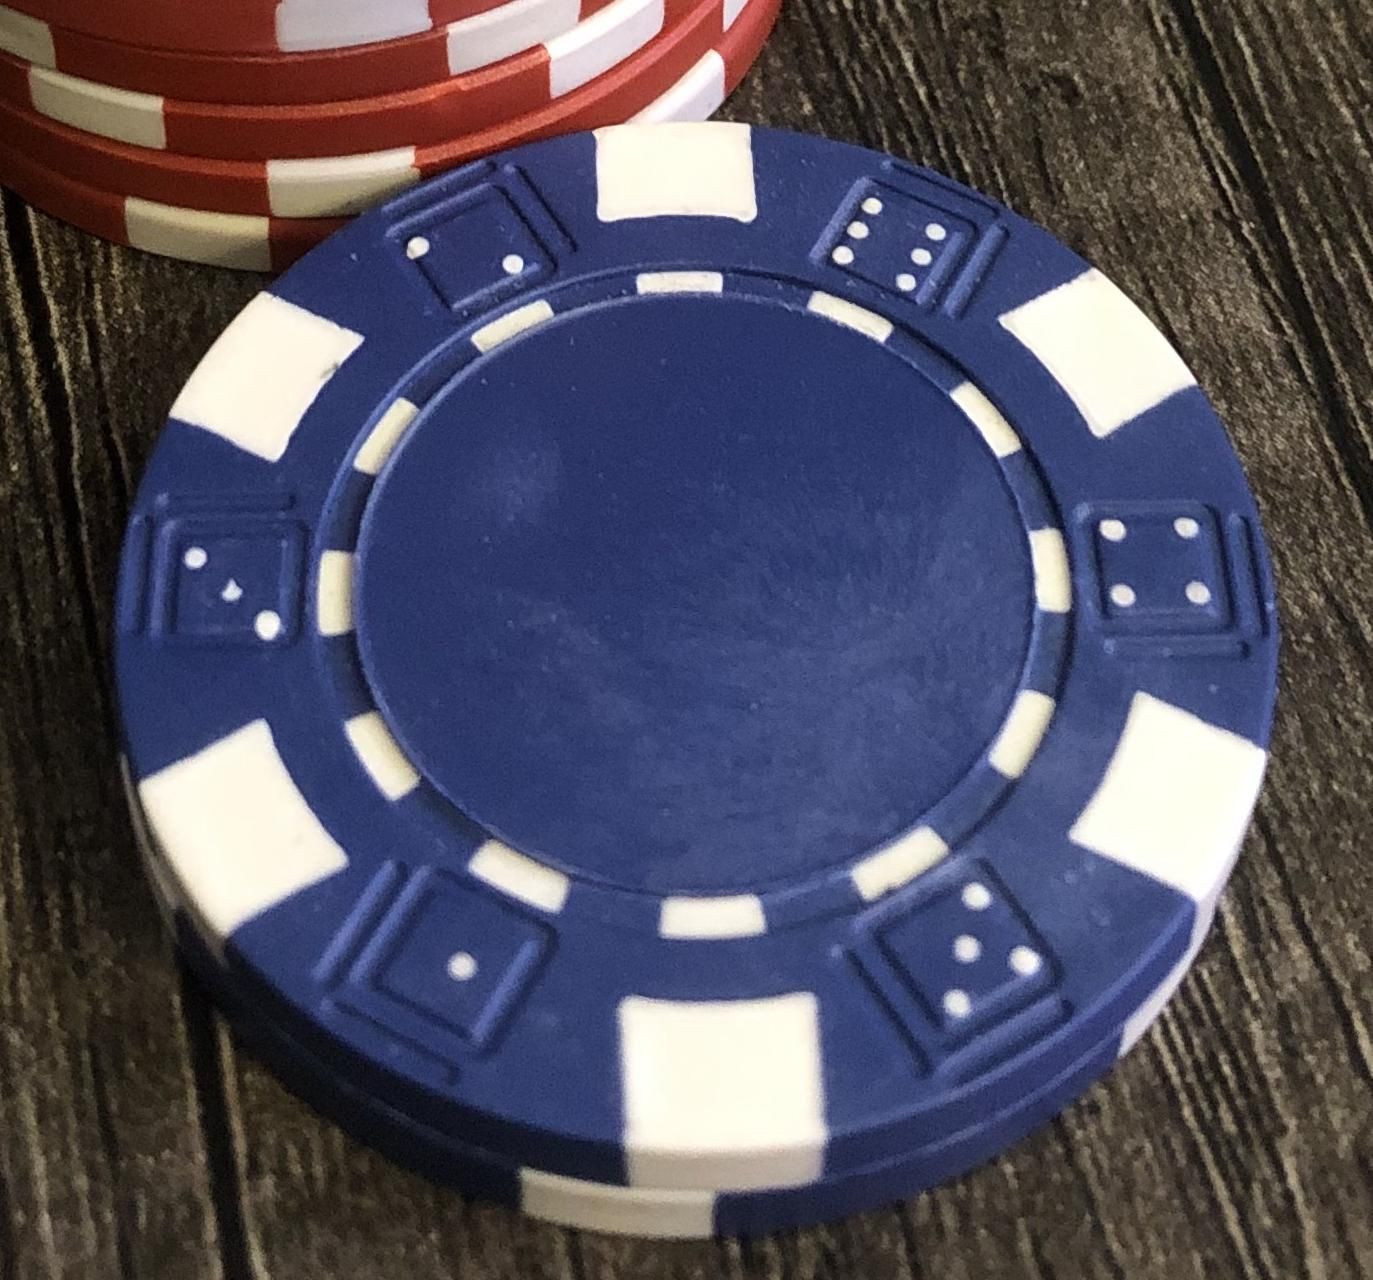Chip: (1, 1, 1373, 1280)
